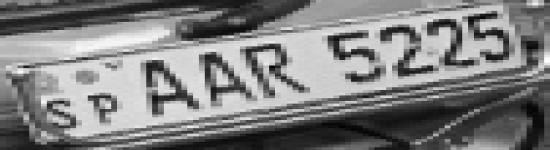2: (374, 22, 431, 78), (423, 18, 477, 70)
5: (316, 29, 386, 85), (469, 9, 521, 66)
A: (132, 56, 204, 118), (200, 50, 262, 110)
P: (85, 91, 128, 125)
R: (240, 40, 318, 95)
S: (42, 97, 86, 130)
